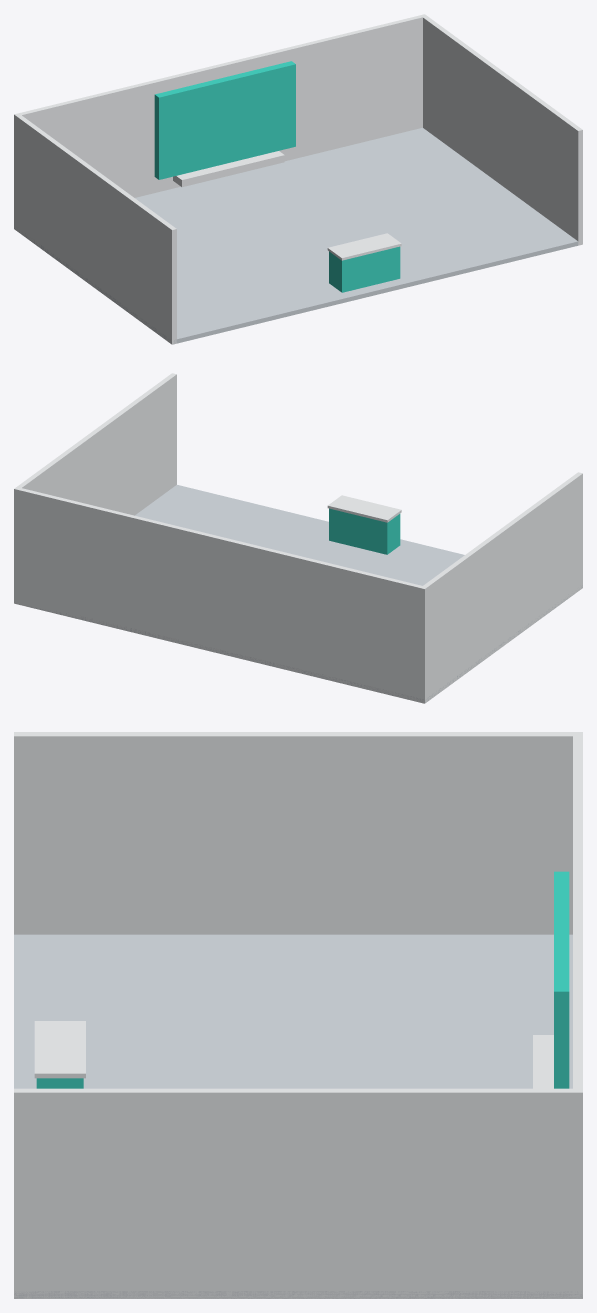
The picture shows the model from 3 angles, top to bottom: view 1: azimuth 30°, elevation 25°; view 2: azimuth 150°, elevation 25°; view 3: azimuth 270°, elevation 25°; orthographic projection. The views are drawn at different scales.
Parts seen in each view (by area): view 1: Exhibition Booth Concept; view 2: Exhibition Booth Concept; view 3: Exhibition Booth Concept.
Boxes of the visible parts, box(x1,y1,x2,y2) form: Exhibition Booth Concept: box(14, 14, 582, 344); Exhibition Booth Concept: box(14, 373, 582, 703); Exhibition Booth Concept: box(14, 732, 582, 1298).
Bounding box in the file's own units: 12 × 3.2 × 8.
